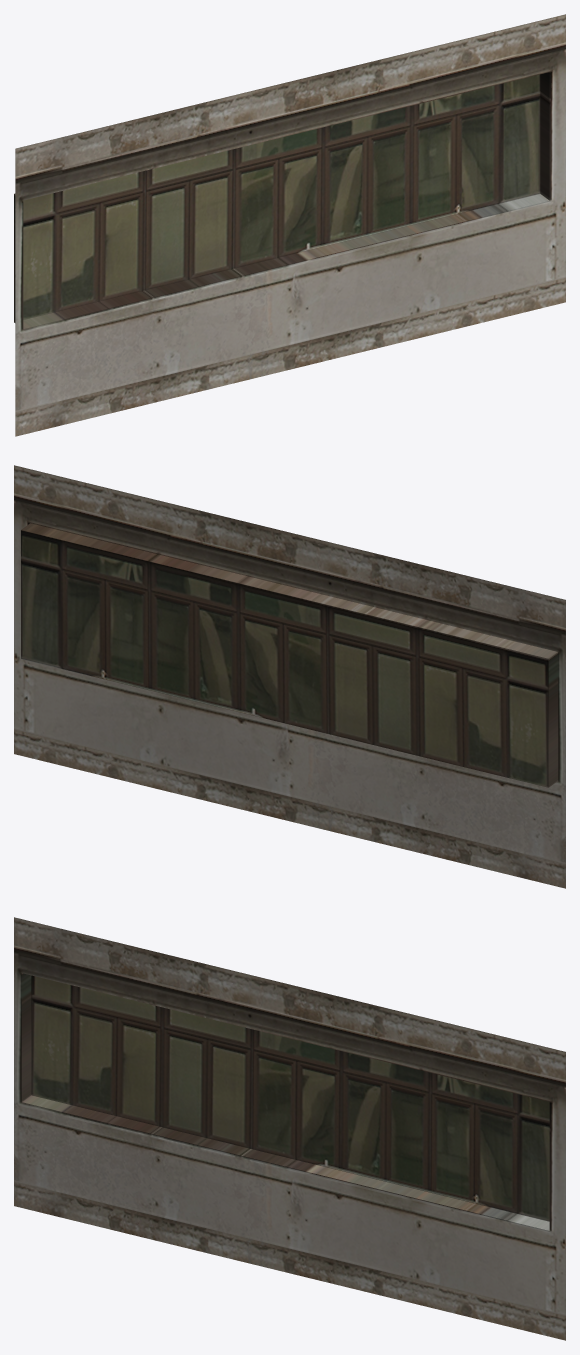
Rendered from CT_Building_Piece_06.fbx.
3 views of the same model, one above another, from view 1: azimuth 30°, elevation 25°; view 2: azimuth 150°, elevation 25°; view 3: azimuth 330°, elevation 25° (orthographic).
Visible parts, largest first — view 1: CT_Building_Piece_06; view 2: CT_Building_Piece_06; view 3: CT_Building_Piece_06.
Part boxes in pixels (box(x1,y1,x2,y2)): CT_Building_Piece_06: box(14, 14, 565, 436); CT_Building_Piece_06: box(14, 465, 565, 888); CT_Building_Piece_06: box(14, 917, 565, 1340).
Bounding box in the file's own units: 512 × 256 × 15.
